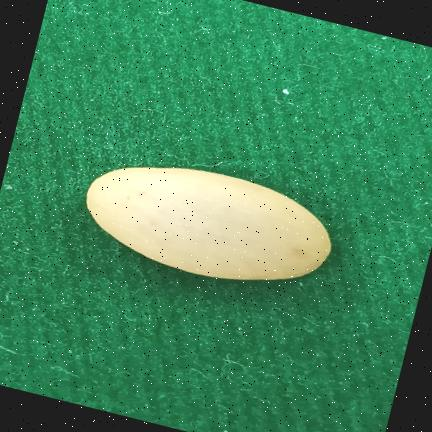parchment: (86, 167, 330, 279)
